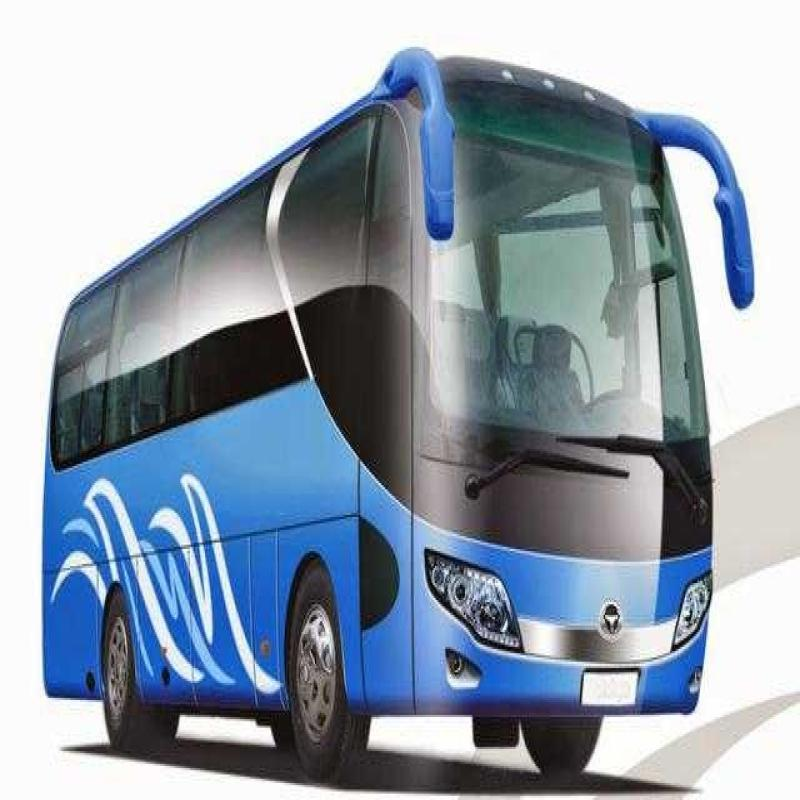bus: (41, 27, 768, 800)
